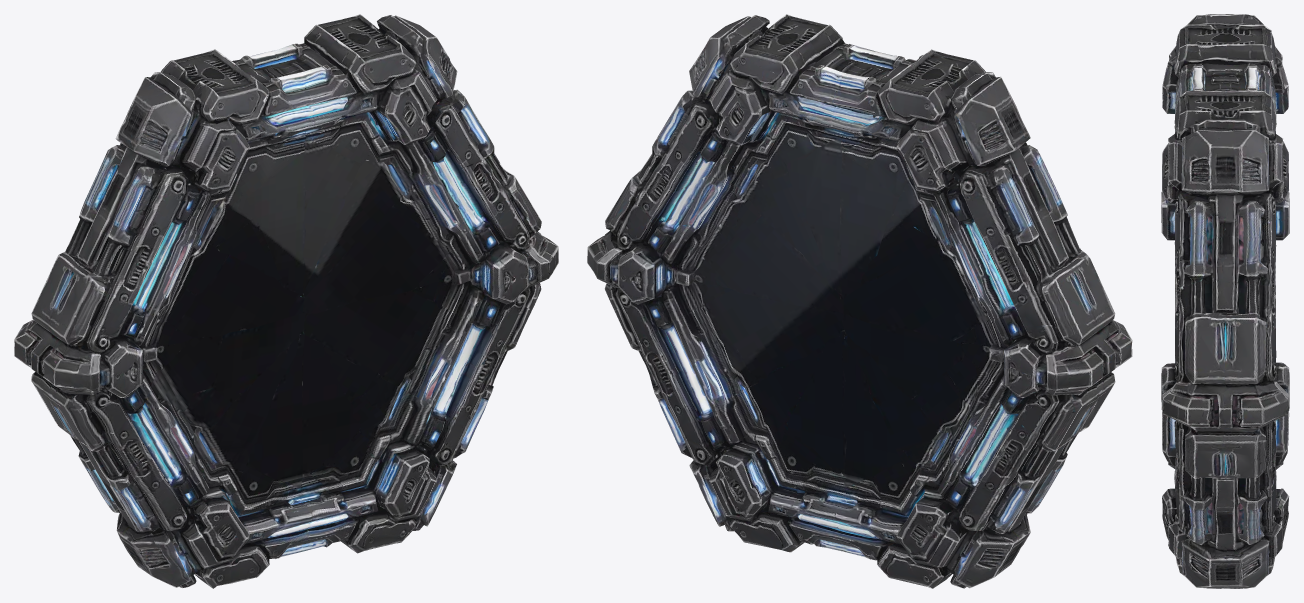
The model's file is node_world_white.glb.
3 views of the same model, side by side, from view 1: azimuth 30°, elevation 25°; view 2: azimuth 150°, elevation 25°; view 3: azimuth 270°, elevation 25° (orthographic). The views are drawn at different scales.
Size of the model in its own units: 1.9 by 1.8 by 0.4468.
1 material, 1 textured.
